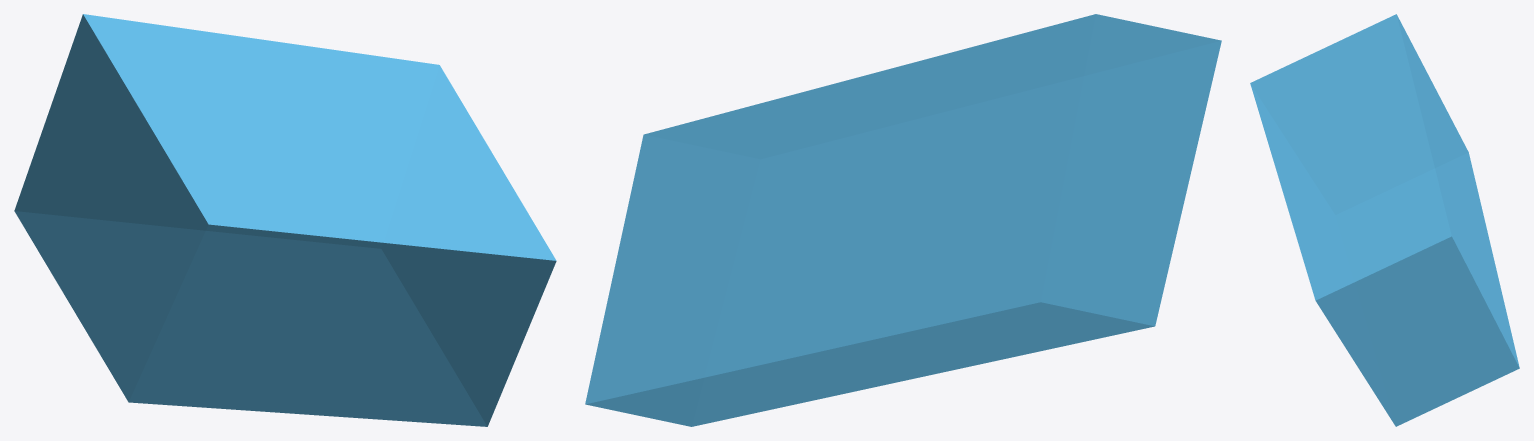
The model's file is Event_421556567_HErechit_45.fbx.
3 renders of one model, left to right at view 1: azimuth 30°, elevation 25°; view 2: azimuth 150°, elevation 25°; view 3: azimuth 270°, elevation 25°, orthographic. The views are drawn at different scales.
Parts seen in each view (by area): view 1: Model; view 2: Model; view 3: Model.
Boxes of the visible parts, x1,y1,x2,y2 form: Model: (14,14,556,426); Model: (585,14,1221,426); Model: (1250,14,1519,426).
Bounding box in the file's own units: 0.8191 × 0.9737 × 0.7988.
